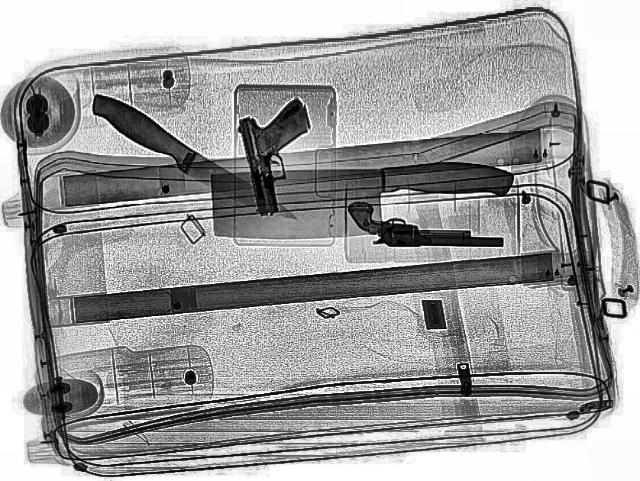Gun: (228, 96, 328, 216), (344, 200, 506, 248)
Knife: (77, 88, 303, 230), (211, 161, 514, 239)
